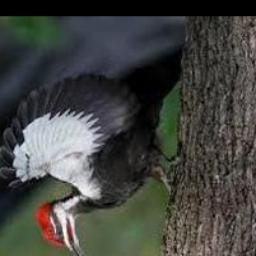Woodpecker: (0, 71, 178, 256)
